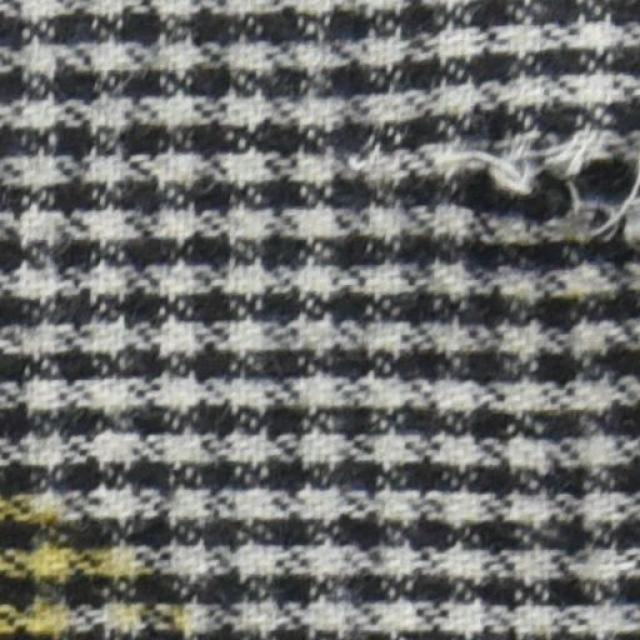Snag: (377, 103, 639, 277)
Stain: (0, 459, 150, 635)
